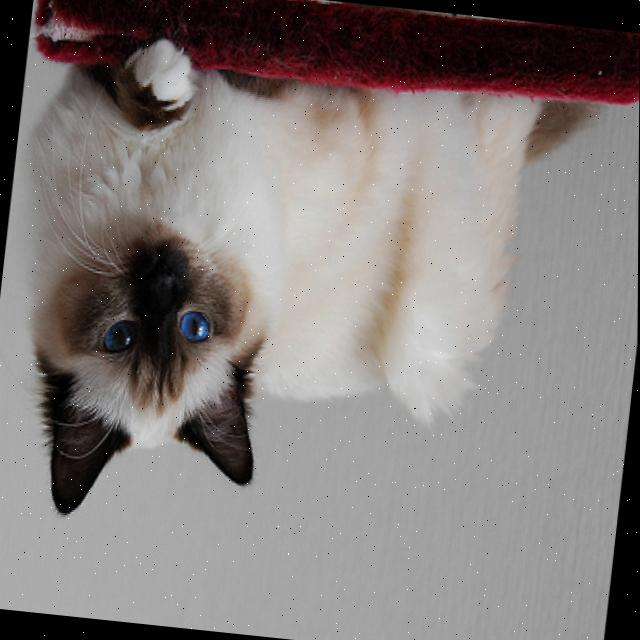Birman: (0, 28, 599, 571)
